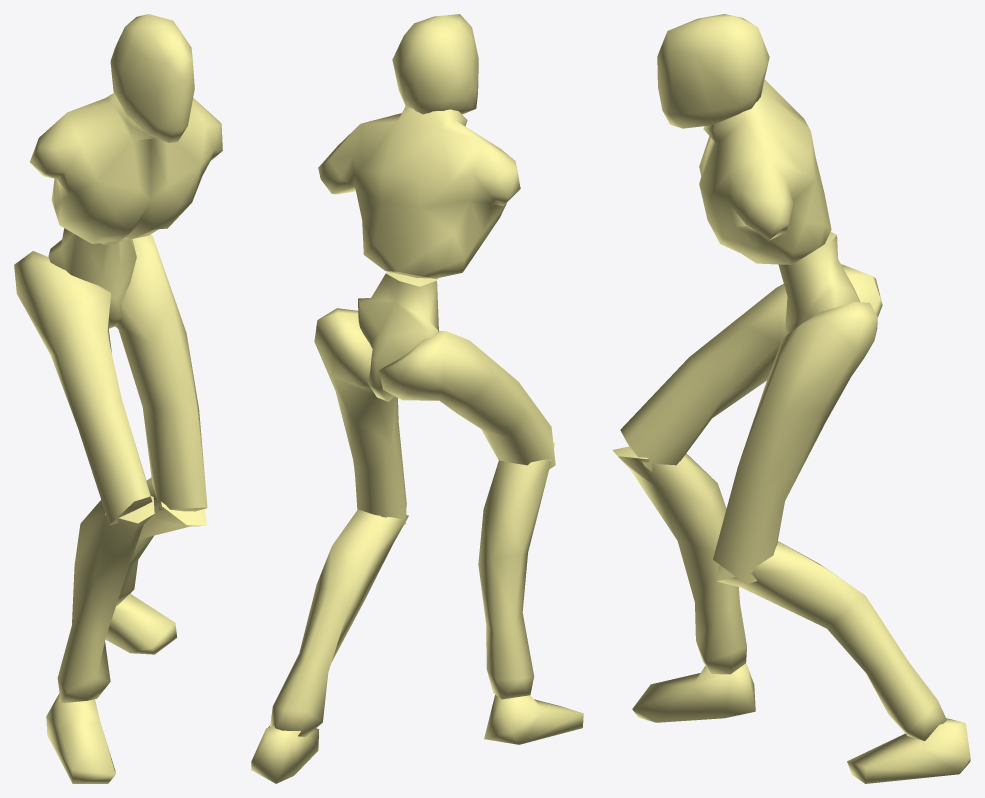
The model's file is filth80.obj.
The picture shows the model from 3 angles, left to right: view 1: azimuth 30°, elevation 25°; view 2: azimuth 150°, elevation 25°; view 3: azimuth 270°, elevation 25°; orthographic projection. The views are drawn at different scales.
Visible parts, largest first — view 1: Melee_Husk; view 2: Melee_Husk; view 3: Melee_Husk.
Boxes of the visible parts, x1=… form: Melee_Husk: x1=14, y1=14, x2=222, y2=783; Melee_Husk: x1=251, y1=14, x2=583, y2=783; Melee_Husk: x1=612, y1=14, x2=970, y2=783.
Bounding box in the file's own units: 22.17 × 72.91 × 31.78.
